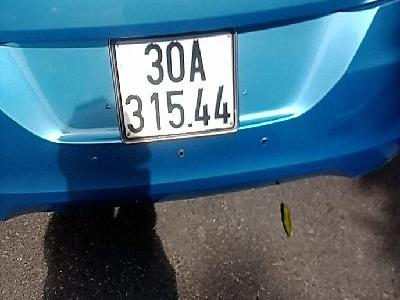number: (110, 26, 235, 143)
